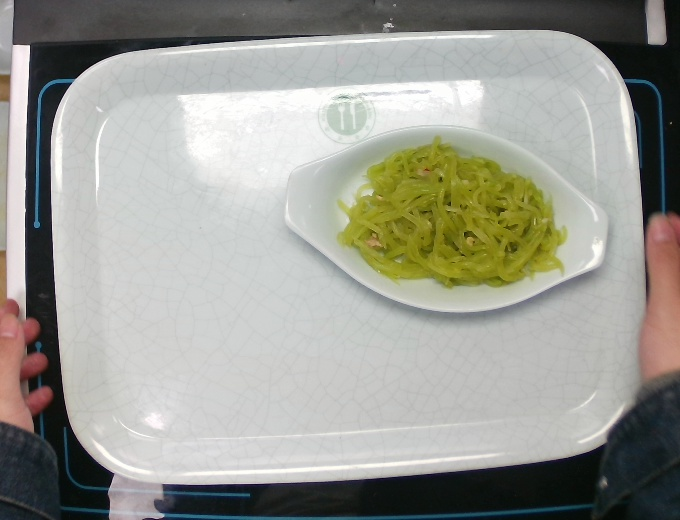JYsf-Yu_Pan: (277, 121, 613, 318)
